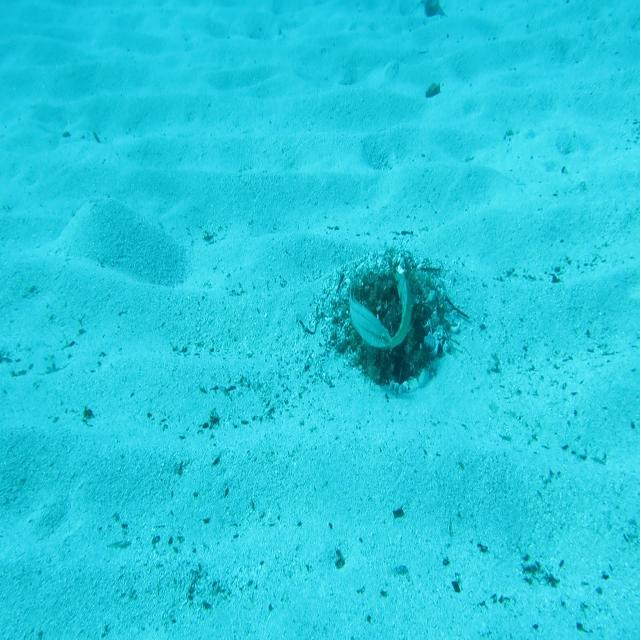DAN_CIRC: (387, 270, 414, 354)
female: (348, 276, 392, 350)
nest: (330, 234, 475, 390)
